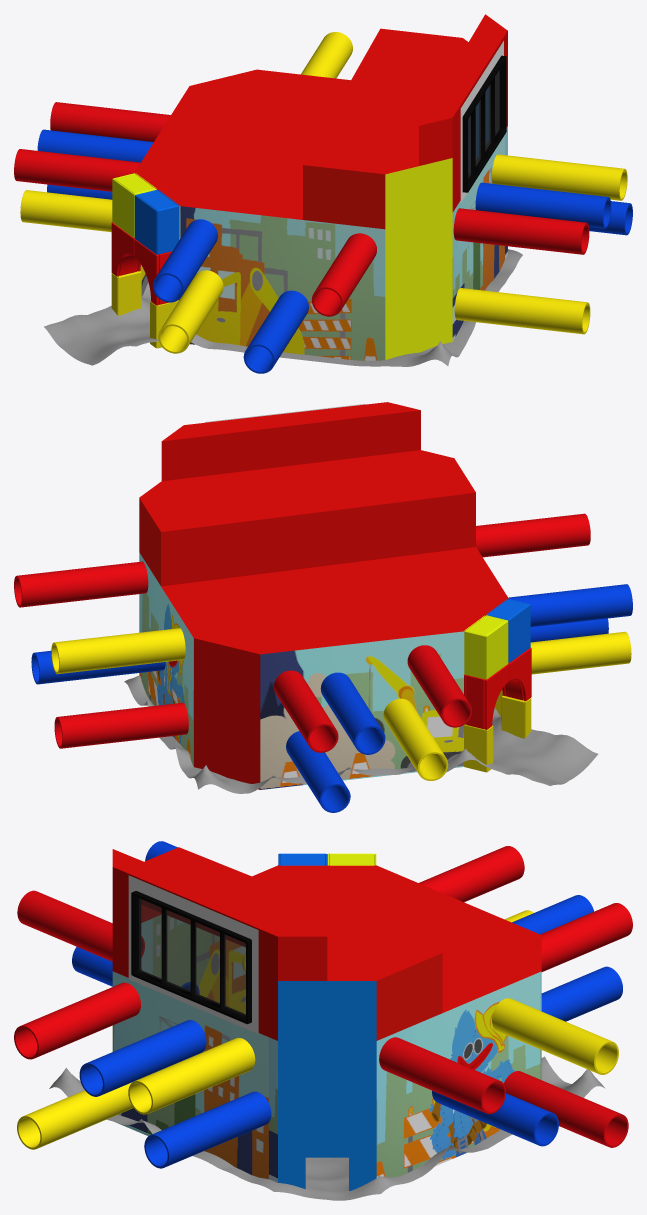
File: poppy_playtime__whack-a-wuggy_room.glb
3 renders of one model, top to bottom at view 1: azimuth 30°, elevation 25°; view 2: azimuth 150°, elevation 25°; view 3: azimuth 270°, elevation 25°, orthographic. The views are drawn at different scales.
Parts seen in each view (by area): view 1: Wack_Huggy_Walls.001, Wack-A-Huggy_tubes.001, Wack-A-Huggy_Plane_018.001, Wack-A-Huggy_TrainArches_005.001, Wack-A-Huggy_TrainArches_004.001; view 2: Wack_Huggy_Walls.001, Wack-A-Huggy_tubes.001, Wack-A-Huggy_Plane_018.001, Wack-A-Huggy_TrainArches_004.001, Wack-A-Huggy_TrainArches_005.001; view 3: Wack_Huggy_Walls.001, Wack-A-Huggy_tubes.001, Wack-A-Huggy_Plane_018.001, Wack-A-Huggy_TrainArches_005.001.
Boxes of the visible parts, <box> form: Wack_Huggy_Walls.001: <box>134,14,507,360</box>; Wack-A-Huggy_tubes.001: <box>14,32,632,373</box>; Wack-A-Huggy_Plane_018.001: <box>44,249,522,366</box>; Wack-A-Huggy_TrainArches_005.001: <box>112,173,179,254</box>; Wack-A-Huggy_TrainArches_004.001: <box>111,222,179,348</box>; Wack_Huggy_Walls.001: <box>139,402,508,789</box>; Wack-A-Huggy_tubes.001: <box>14,513,632,812</box>; Wack-A-Huggy_Plane_018.001: <box>124,675,598,793</box>; Wack-A-Huggy_TrainArches_004.001: <box>464,647,531,772</box>; Wack-A-Huggy_TrainArches_005.001: <box>464,599,530,679</box>; Wack_Huggy_Walls.001: <box>112,847,541,1190</box>; Wack-A-Huggy_tubes.001: <box>14,841,632,1168</box>; Wack-A-Huggy_Plane_018.001: <box>49,1056,605,1200</box>; Wack-A-Huggy_TrainArches_005.001: <box>278,853,376,865</box>.
Size of the model in its own units: 27.3 by 12.85 by 26.94.
19 materials, 4 textured.
